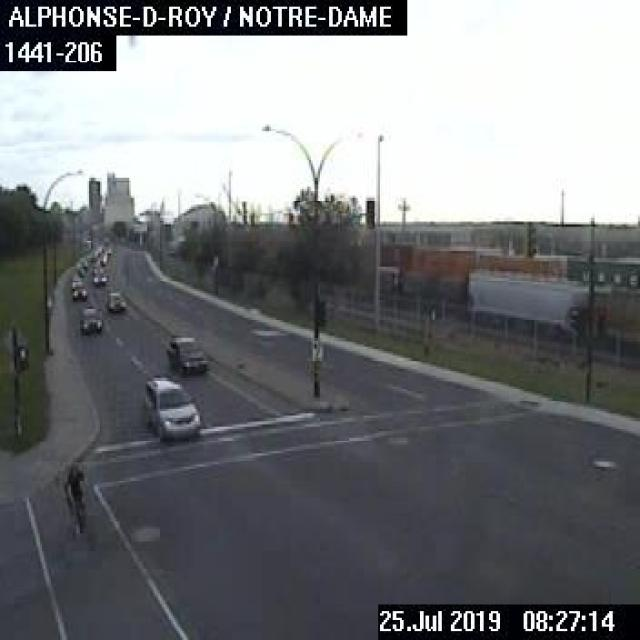cyclist: (62, 462, 87, 536)
vehicle: (140, 369, 202, 440), (162, 331, 210, 376), (75, 301, 102, 336), (104, 289, 127, 313), (70, 283, 87, 303), (90, 268, 110, 284)
